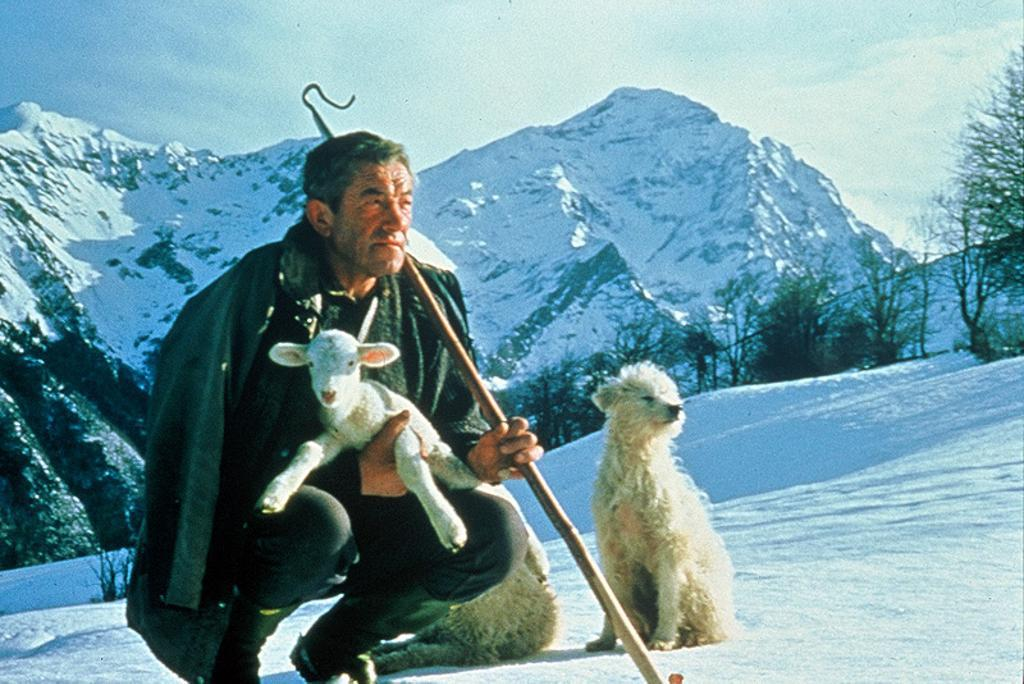face: (335, 161, 415, 279)
